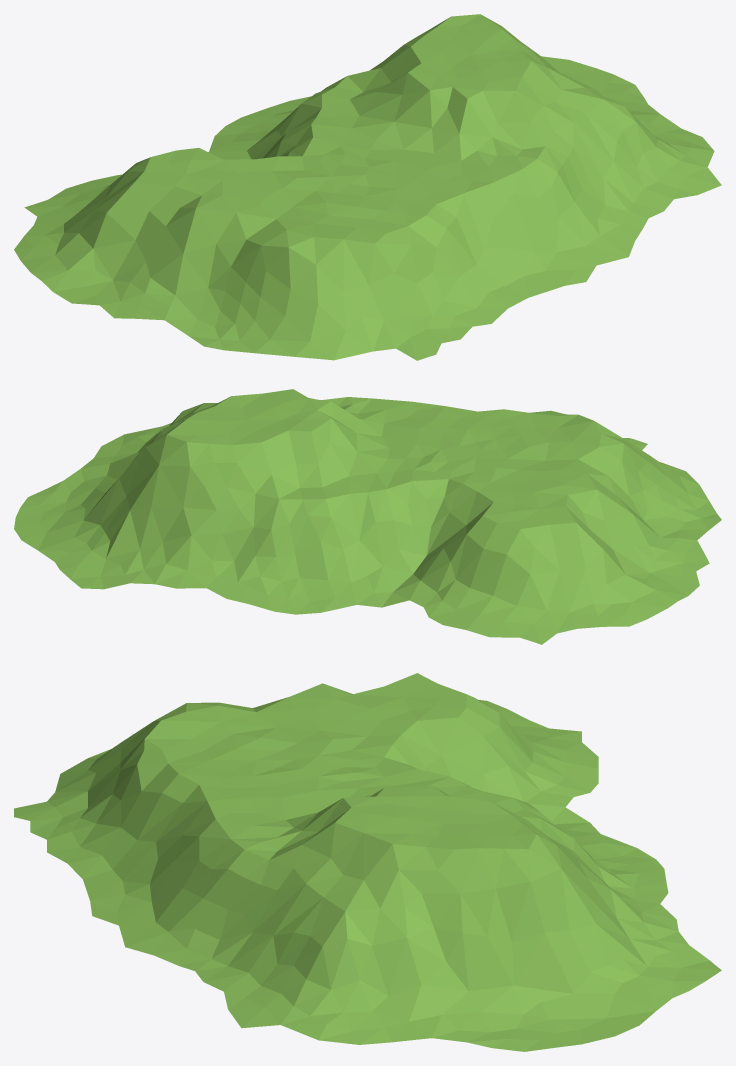
File: MT_Mountain_L_b_01.fbx
3 renders of one model, top to bottom at view 1: azimuth 30°, elevation 25°; view 2: azimuth 150°, elevation 25°; view 3: azimuth 270°, elevation 25°, orthographic. The views are drawn at different scales.
Parts seen in each view (by area): view 1: MT_Mountain_L_b_01; view 2: MT_Mountain_L_b_01; view 3: MT_Mountain_L_b_01.
Part boxes in pixels (box(x1,y1,x2,y2)): MT_Mountain_L_b_01: box(14, 14, 721, 360); MT_Mountain_L_b_01: box(14, 389, 721, 644); MT_Mountain_L_b_01: box(14, 673, 721, 1051).
Size of the model in its own units: 7969 by 1262 by 6719.
